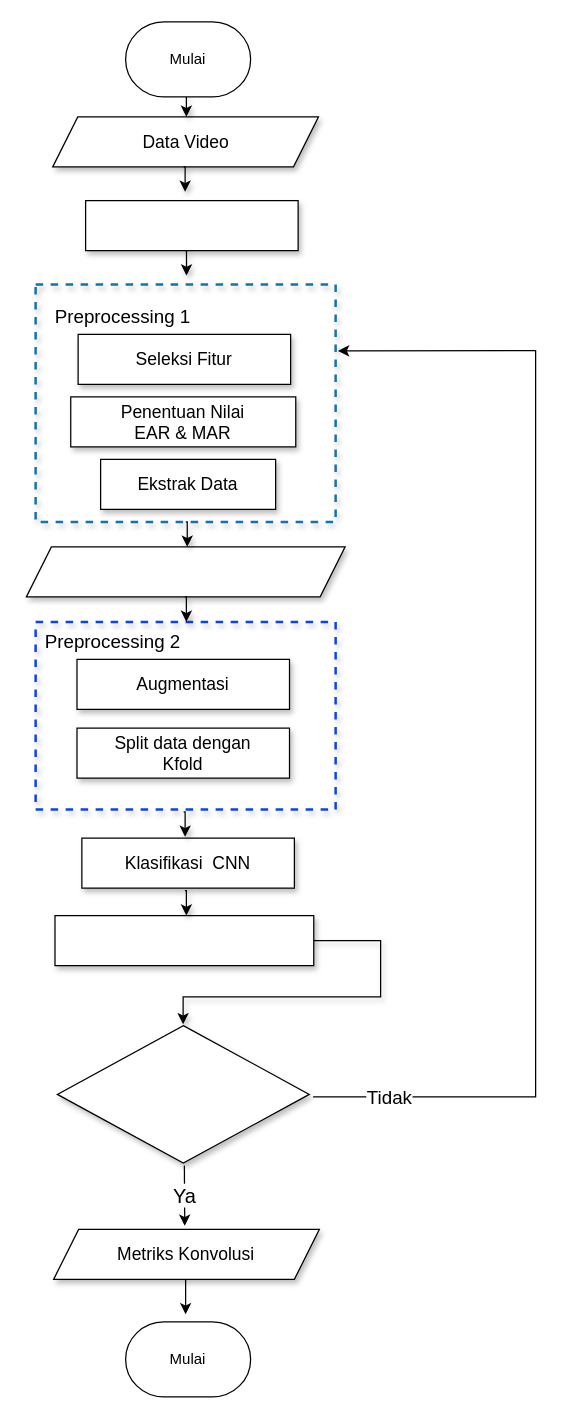
Image size: 569x1419. Some labels were removed from this diagram. Here are the shapes that lost their labels. From the top down, the centre of each, then its label:
At point (192, 226): "Ekplorasi Data".
At point (186, 573): "Data Gambar".
At point (185, 941): "Analisis dan Evaluasi dengan Confusion Matriks".
At point (184, 1095): "Sesuai Kebutuhan ?".
